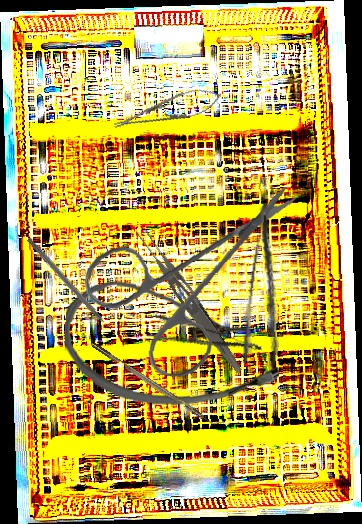Cannula: (61, 276, 284, 412)
Chopper: (91, 336, 225, 432)
Dressing Forceps: (132, 225, 250, 376), (239, 202, 296, 367), (148, 312, 264, 369)
Hook Surgical: (25, 236, 116, 337)
Iris Scissors: (76, 170, 300, 386)
Needle Holder: (110, 82, 225, 138)
